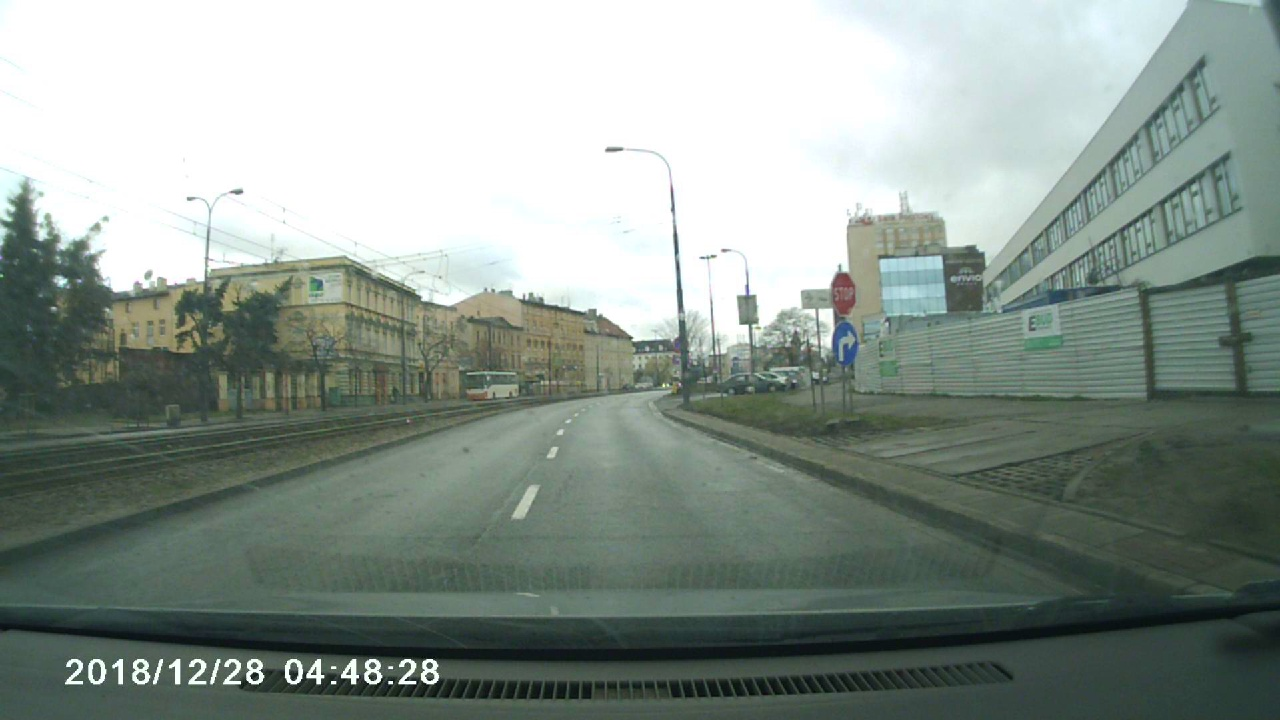B20: (829, 272, 859, 318)
C2: (829, 320, 866, 363)
